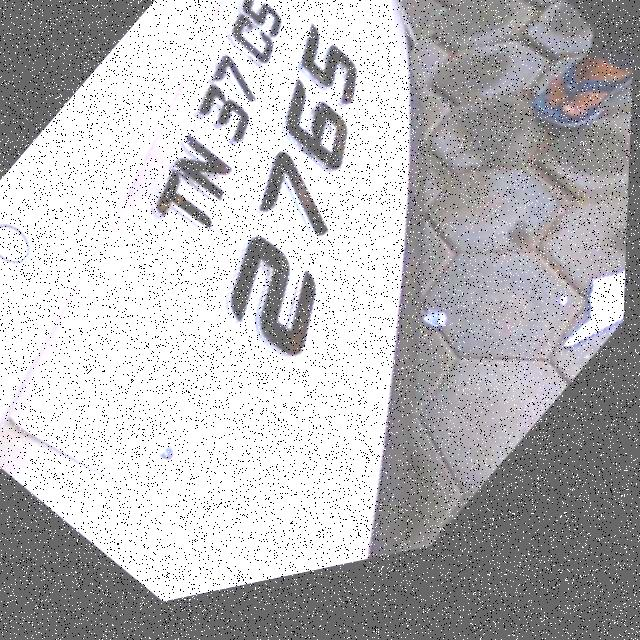license_plate: (20, 0, 505, 453)
